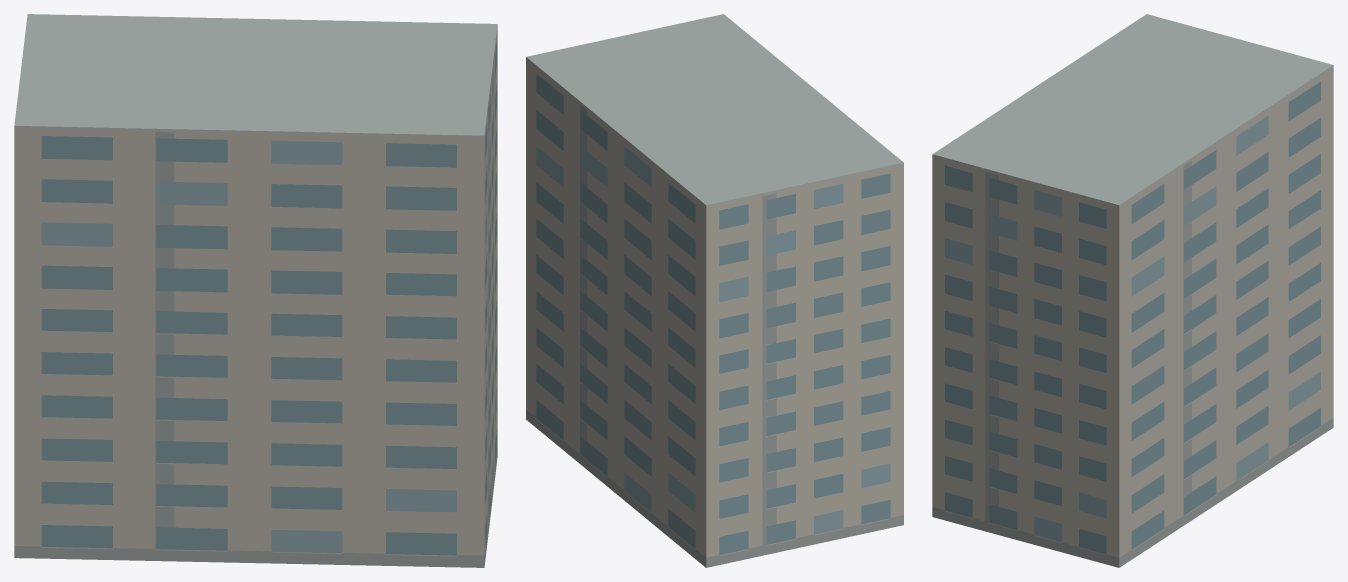
File: residential-0f203861-6253-4f81-8f97-9d2130f0289a.glb
3 views of the same model, side by side, from view 1: azimuth 30°, elevation 25°; view 2: azimuth 150°, elevation 25°; view 3: azimuth 270°, elevation 25° (orthographic). The views are drawn at different scales.
Visible parts, largest first — view 1: residential-0f203861-6253-4f81-8f97-9d2130f0289a.tmp; view 2: residential-0f203861-6253-4f81-8f97-9d2130f0289a.tmp; view 3: residential-0f203861-6253-4f81-8f97-9d2130f0289a.tmp.
Part boxes in pixels (x1,y1,x2,y2): residential-0f203861-6253-4f81-8f97-9d2130f0289a.tmp: (14,14,497,567); residential-0f203861-6253-4f81-8f97-9d2130f0289a.tmp: (526,14,903,567); residential-0f203861-6253-4f81-8f97-9d2130f0289a.tmp: (932,14,1333,567).
Bounding box in the file's own units: 33.92 × 30 × 30.07.
